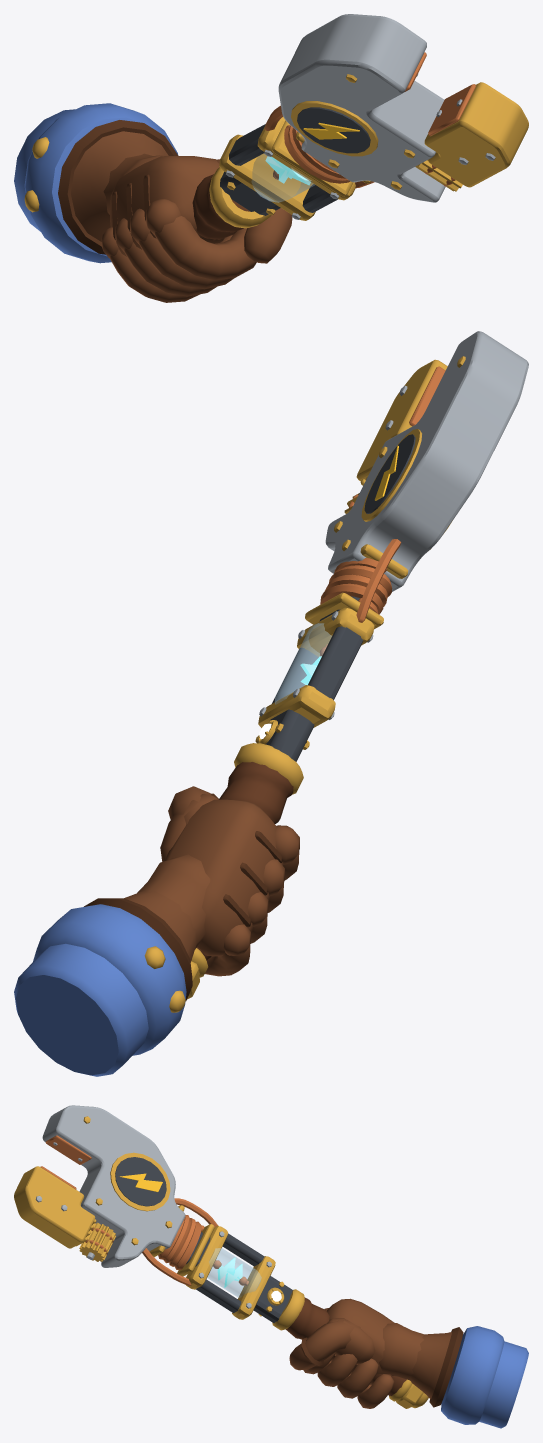
File: vm_thunder_wrench.glb
3 views of the same model, one above another, from view 1: azimuth 30°, elevation 25°; view 2: azimuth 150°, elevation 25°; view 3: azimuth 270°, elevation 25° (orthographic). The views are drawn at different scales.
Visible parts, largest first — view 1: ThunderWrench, Glove; view 2: Glove, ThunderWrench; view 3: ThunderWrench, Glove.
Part boxes in pixels (x1=…): ThunderWrench: x1=192, y1=14, x2=528, y2=241; Glove: x1=14, y1=103, x2=292, y2=302; Glove: x1=14, y1=786, x2=299, y2=1076; ThunderWrench: x1=187, y1=331, x2=528, y2=999; ThunderWrench: x1=14, y1=1105, x2=428, y2=1408; Glove: x1=289, y1=1298, x2=528, y2=1428.
Bounding box in the file's own units: 0.1805 × 0.5094 × 0.7811.
